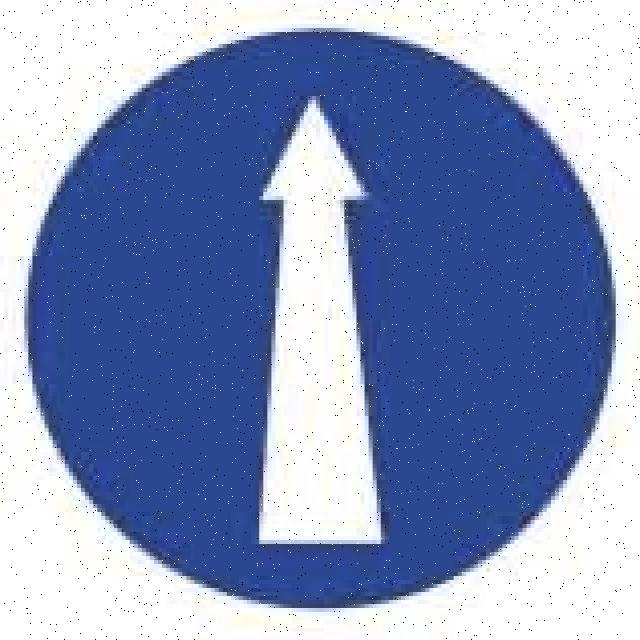compulsory_ahead: (29, 29, 618, 608)
